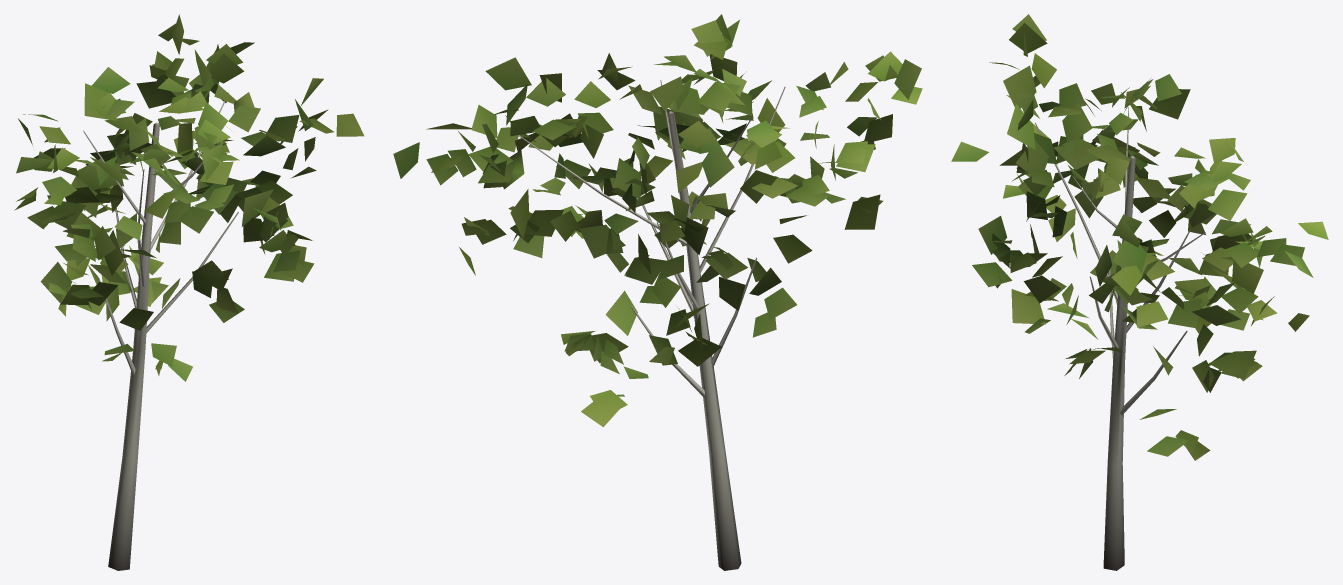
File: birch-b.lod2.glb
The picture shows the model from 3 angles, left to right: view 1: azimuth 30°, elevation 25°; view 2: azimuth 150°, elevation 25°; view 3: azimuth 270°, elevation 25°; orthographic projection. The views are drawn at different scales.
Size of the model in its own units: 7.26 by 8.39 by 5.83.
